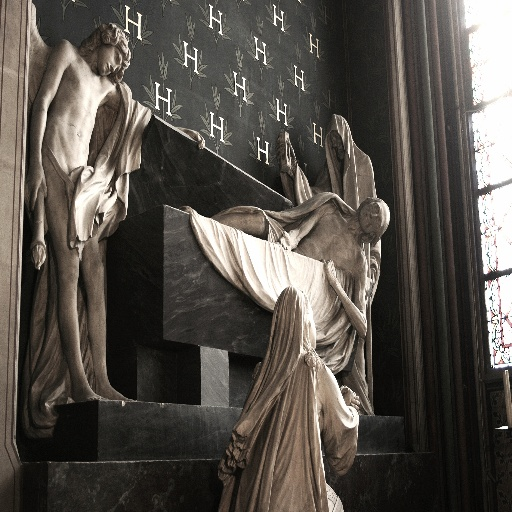hand: (275, 134, 297, 178), (28, 168, 47, 202), (340, 383, 360, 411), (185, 126, 205, 152), (319, 256, 337, 284), (278, 228, 292, 250), (343, 383, 355, 405), (370, 266, 376, 299)
